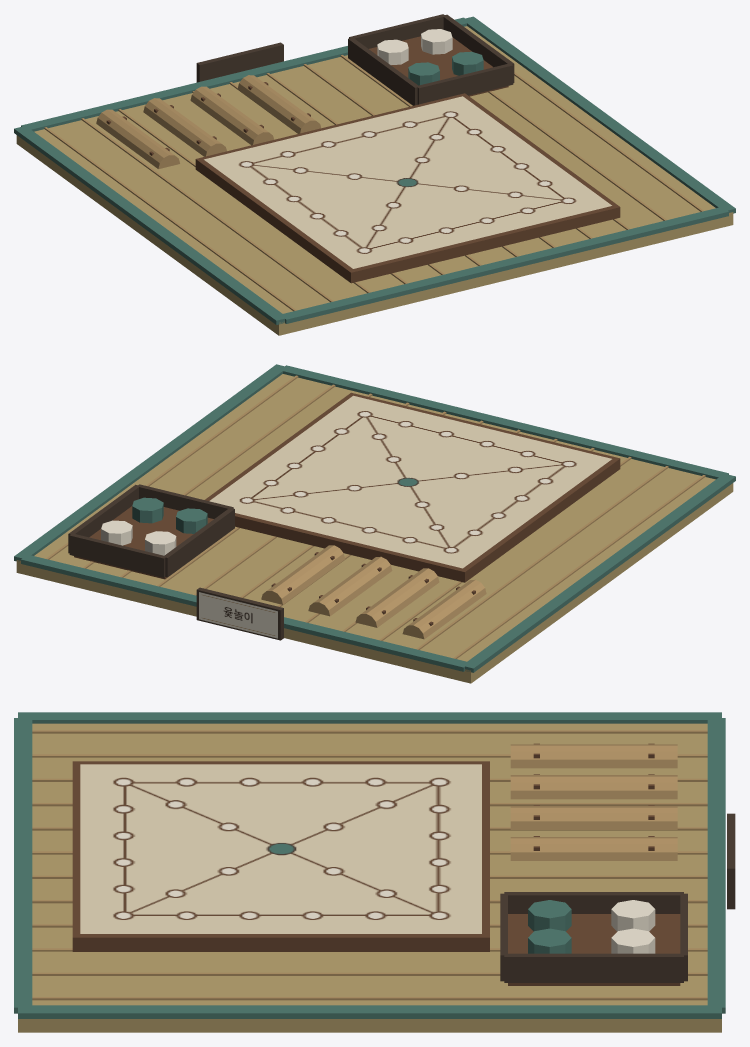
The model's file is W04_Yut_Play_Mat.fbx.
The picture shows the model from 3 angles, top to bottom: view 1: azimuth 30°, elevation 25°; view 2: azimuth 150°, elevation 25°; view 3: azimuth 270°, elevation 25°; orthographic projection. The views are drawn at different scales.
Parts seen in each view (by area): view 1: Mat_Base, Yut_Board, Token_Tray, Yut_Sticks, Front_Label; view 2: Mat_Base, Yut_Board, Token_Tray, Yut_Sticks, Front_Label; view 3: Mat_Base, Yut_Board, Token_Tray, Yut_Sticks, Front_Label.
Boxes of the visible parts, x1,y1,x2,y2 form: Mat_Base: (14, 16, 735, 335); Yut_Board: (195, 93, 620, 283); Token_Tray: (348, 14, 514, 105); Yut_Sticks: (96, 75, 320, 169); Front_Label: (196, 42, 283, 82); Mat_Base: (14, 364, 735, 683); Yut_Board: (205, 392, 620, 582); Token_Tray: (68, 484, 234, 579); Yut_Sticks: (261, 545, 486, 639); Front_Label: (196, 587, 283, 640); Mat_Base: (14, 712, 725, 1032); Yut_Board: (72, 761, 489, 951); Token_Tray: (500, 892, 687, 985); Yut_Sticks: (510, 743, 677, 860); Front_Label: (727, 813, 735, 909).
Size of the model in its own units: 2.73 by 0.215 by 2.77.
Materials: 7 (1 with a texture image).
